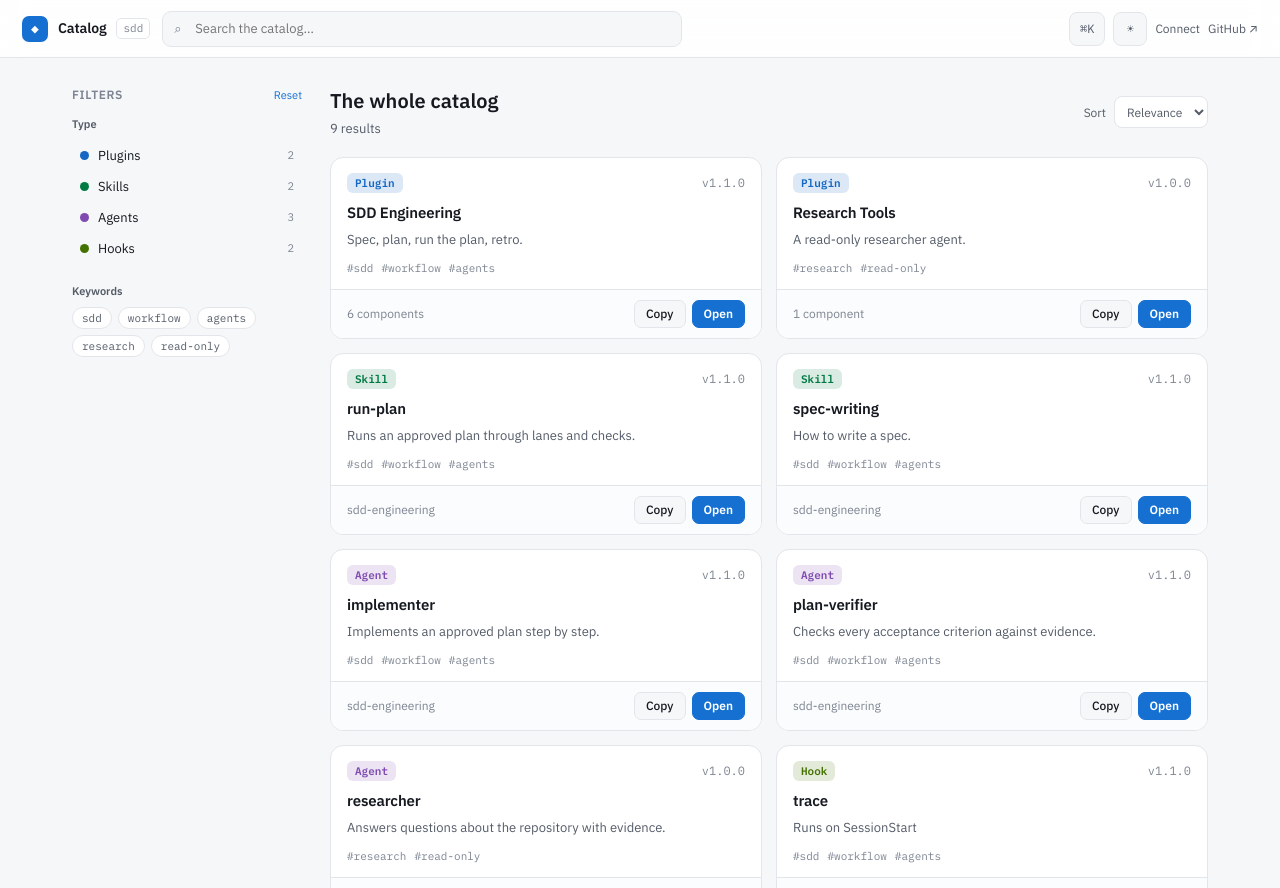
Search › filters by kind
// the Type facet ("agents" + its count), not the keyword chip "agents"
Click the button "agents 3": (187, 217) [72,202,302,232]
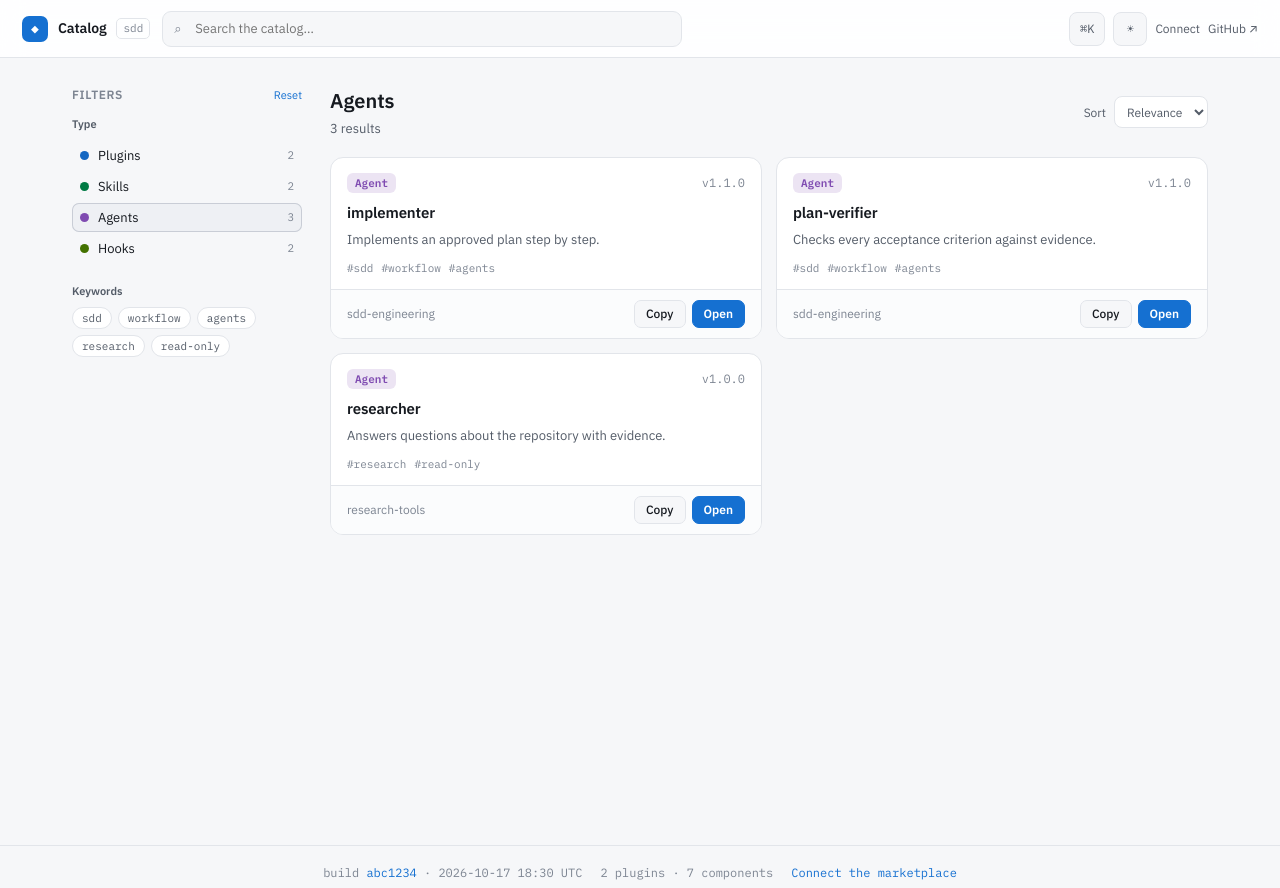
Check: the heading "Agents" is shown, box [330,86,395,116]
